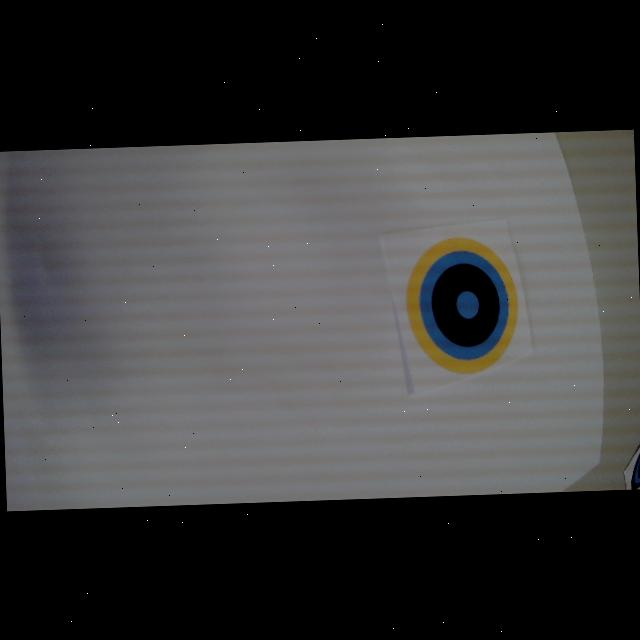COGNITIVE: (404, 234, 520, 376)
